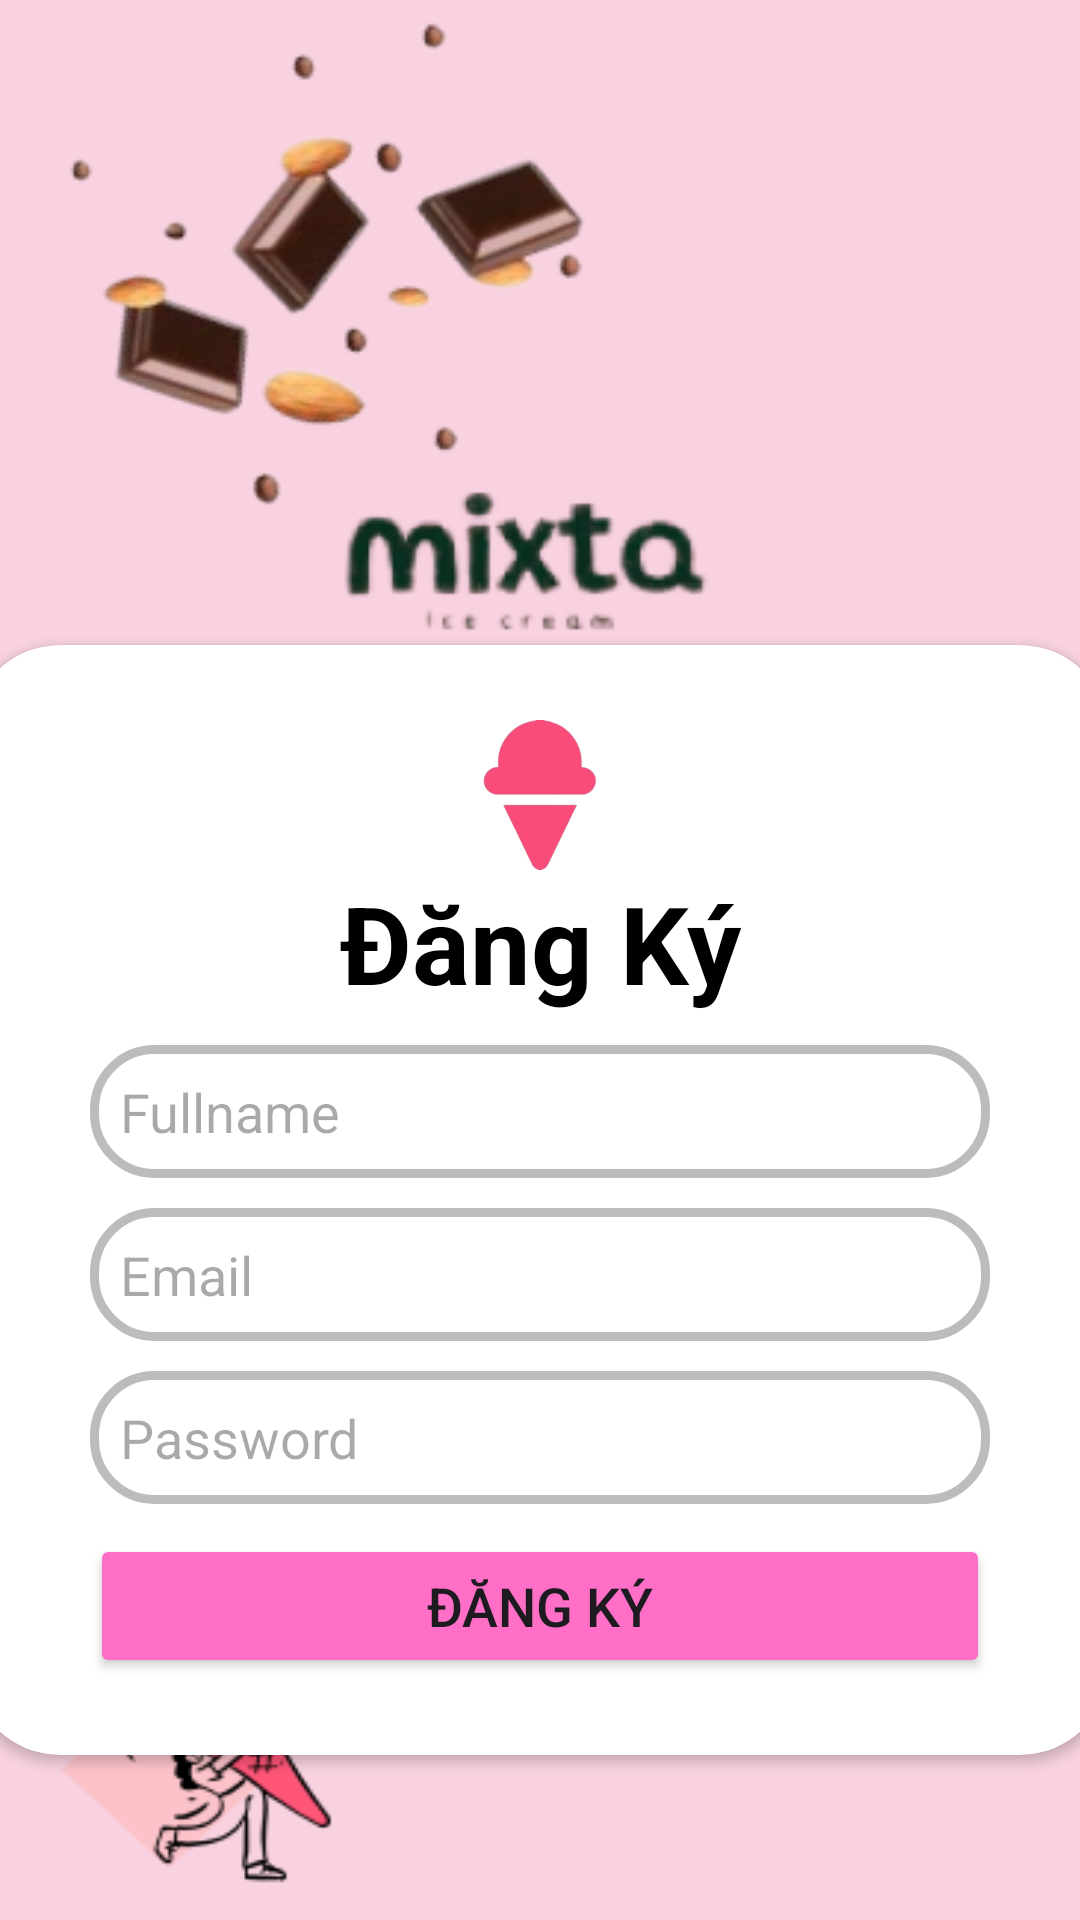

Where to tap for icons on this 1080x1920 app screen, as [x,y]:
Ice Cream Icon: [539,795]
